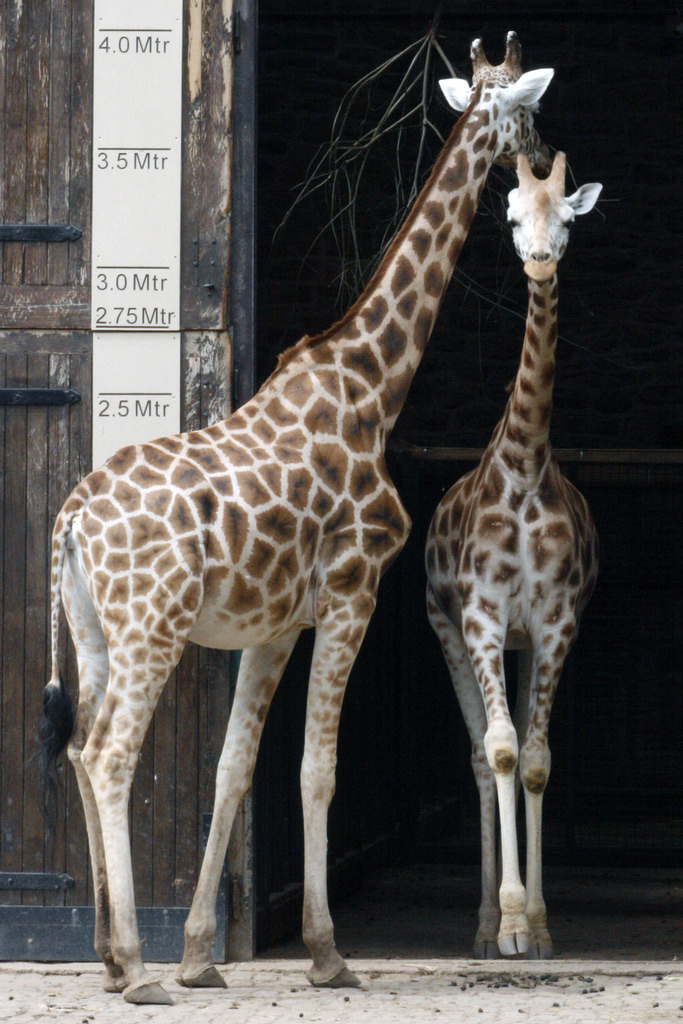giraffe: (36, 53, 559, 897), (441, 141, 611, 950)
